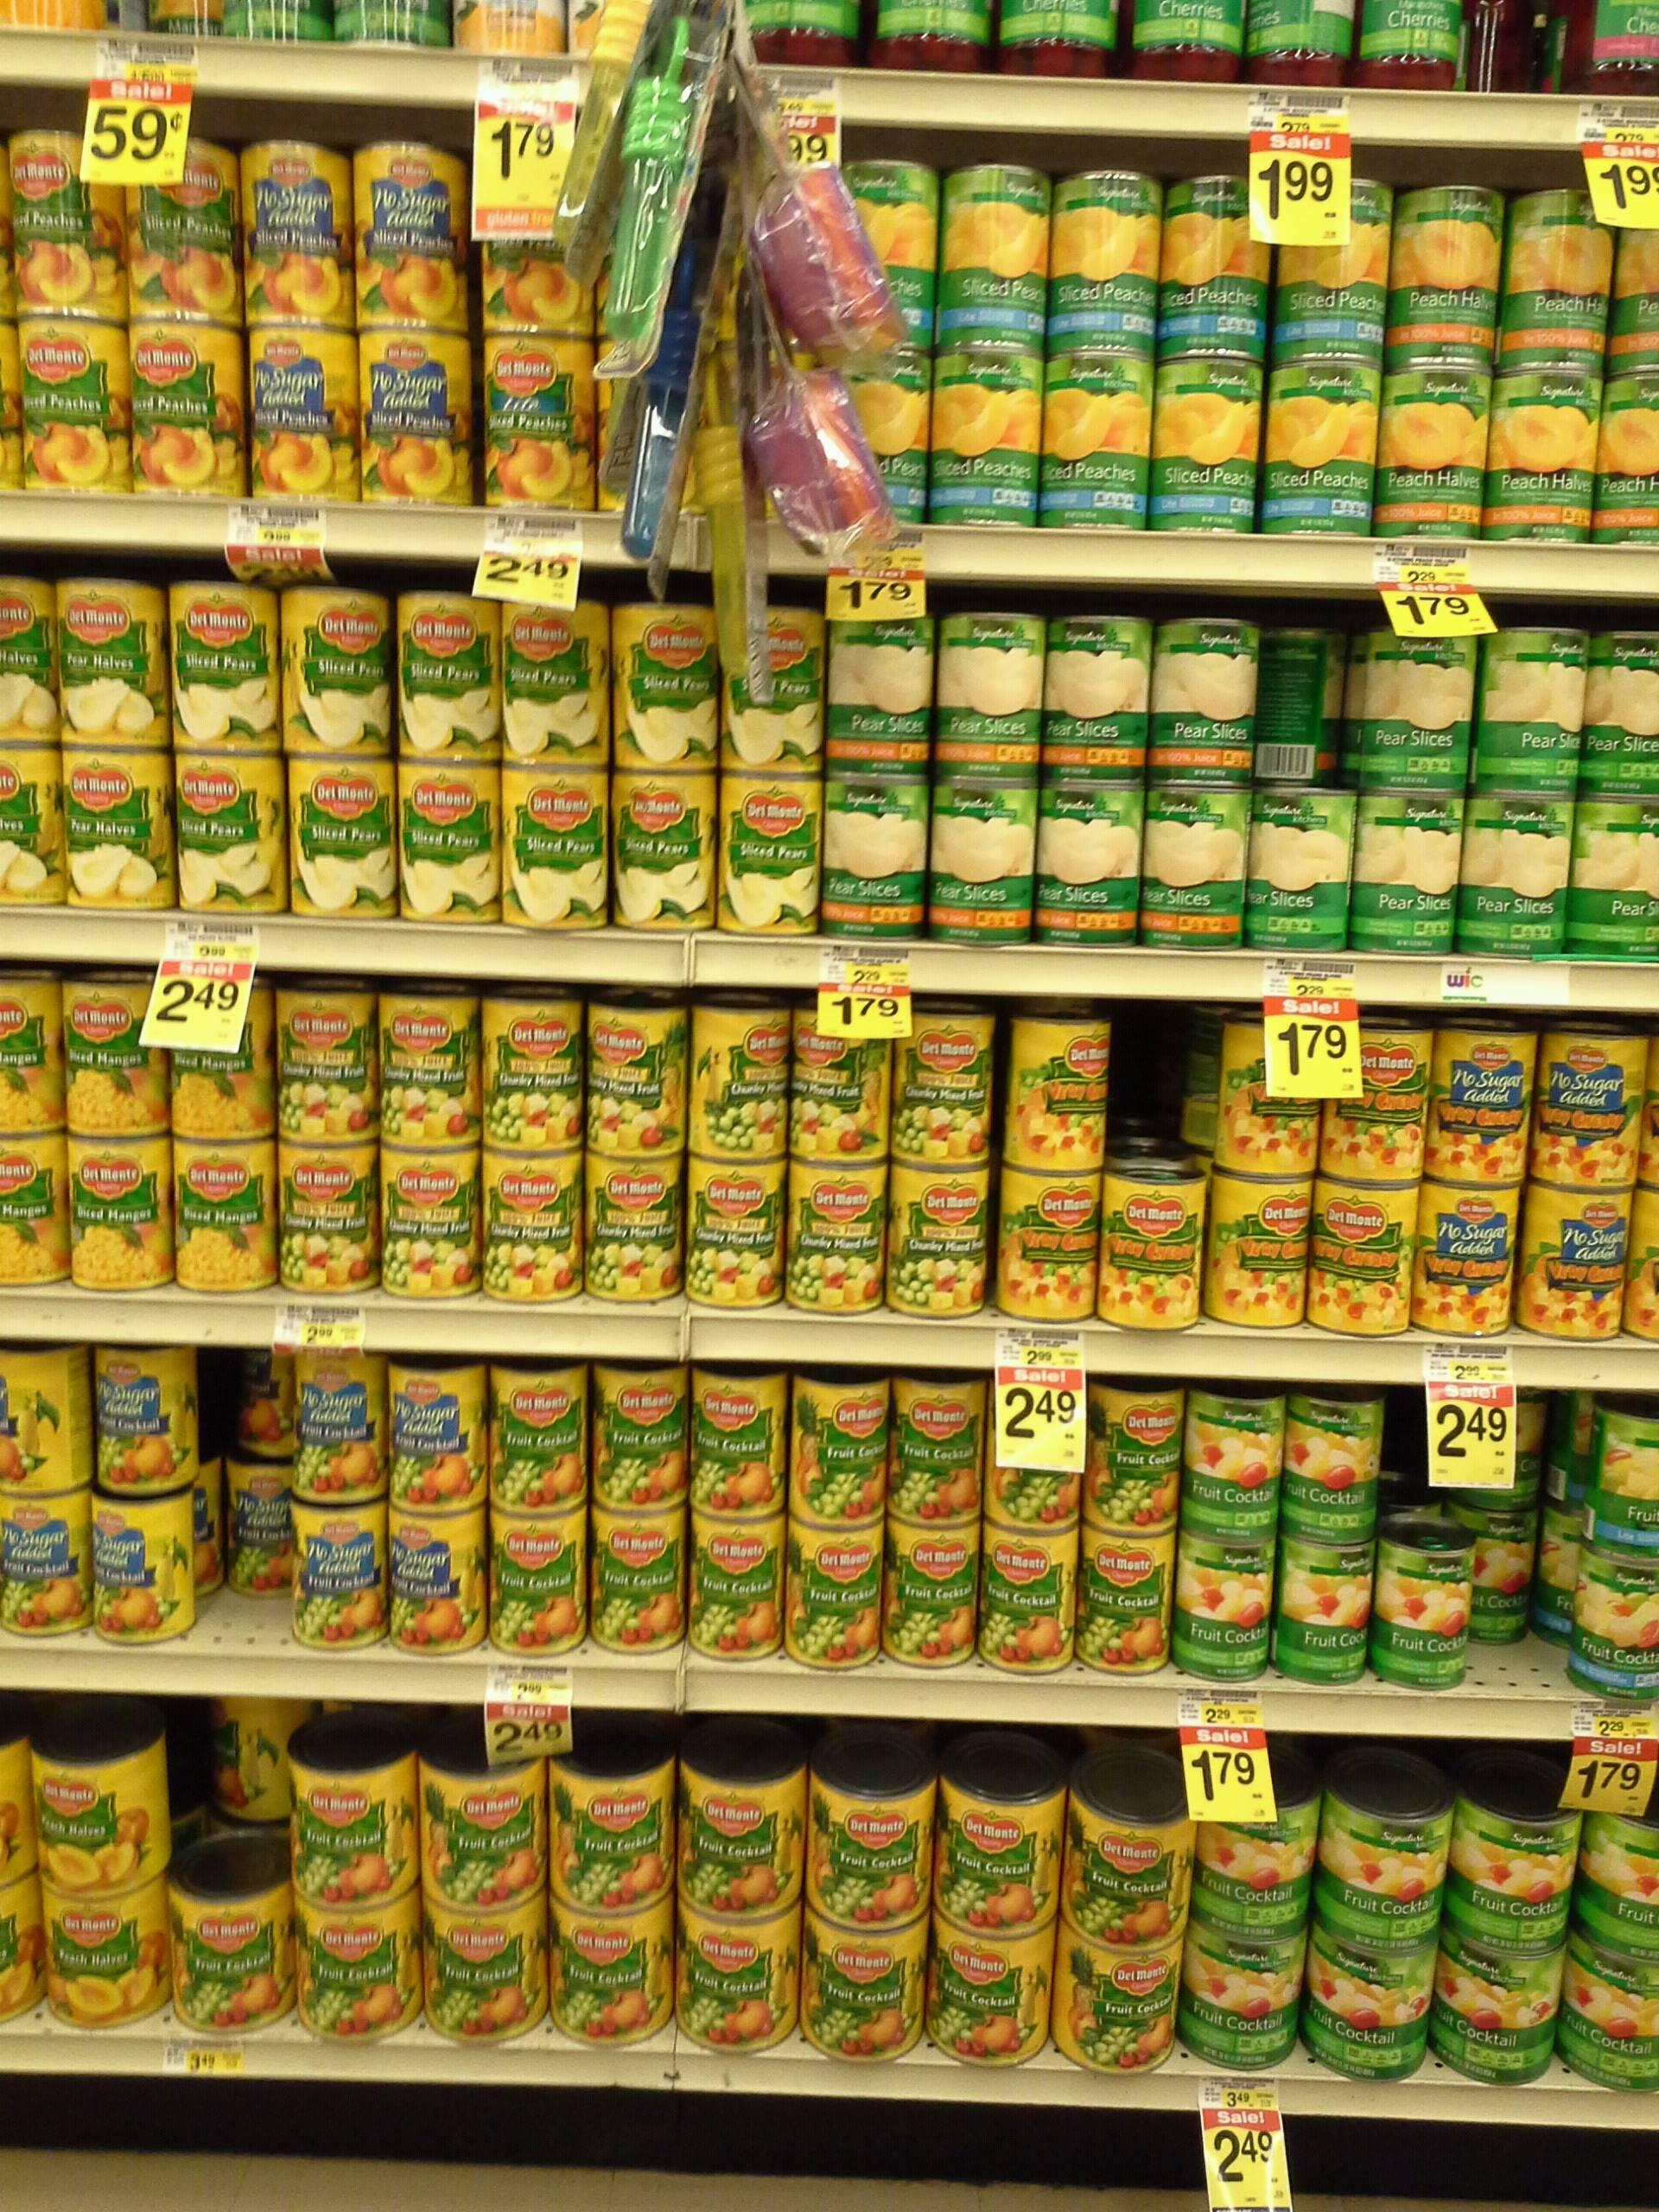empty: (166, 1700, 288, 1883), (1110, 988, 1209, 1170), (1255, 604, 1354, 787)
